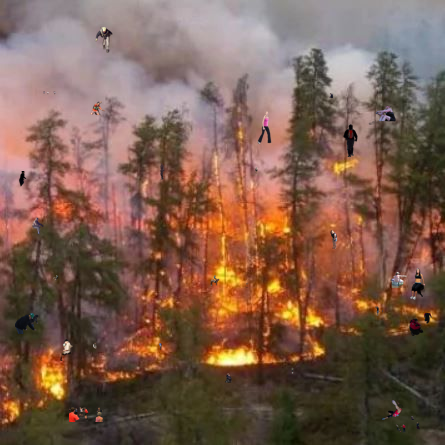Human: (209, 275, 251, 288), (409, 268, 426, 300), (368, 106, 396, 125), (381, 397, 404, 420), (409, 313, 432, 336), (94, 26, 113, 53), (257, 111, 272, 145), (69, 407, 103, 422), (15, 313, 39, 334), (330, 230, 351, 254), (343, 124, 358, 157), (53, 339, 73, 361), (19, 171, 39, 188), (393, 422, 420, 433), (390, 272, 408, 288), (90, 101, 105, 120), (32, 217, 44, 235), (159, 163, 165, 181), (375, 306, 383, 316), (225, 373, 232, 383), (43, 91, 56, 95), (93, 342, 99, 349), (53, 275, 59, 281), (411, 416, 417, 420), (159, 343, 162, 350), (255, 167, 258, 174), (291, 367, 294, 374), (329, 93, 333, 98)
